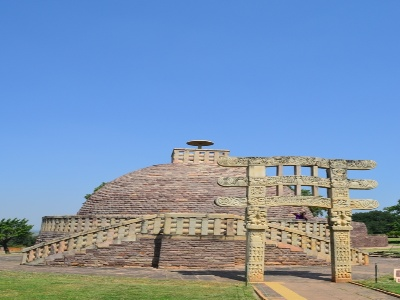torana: (222, 151, 380, 282)
